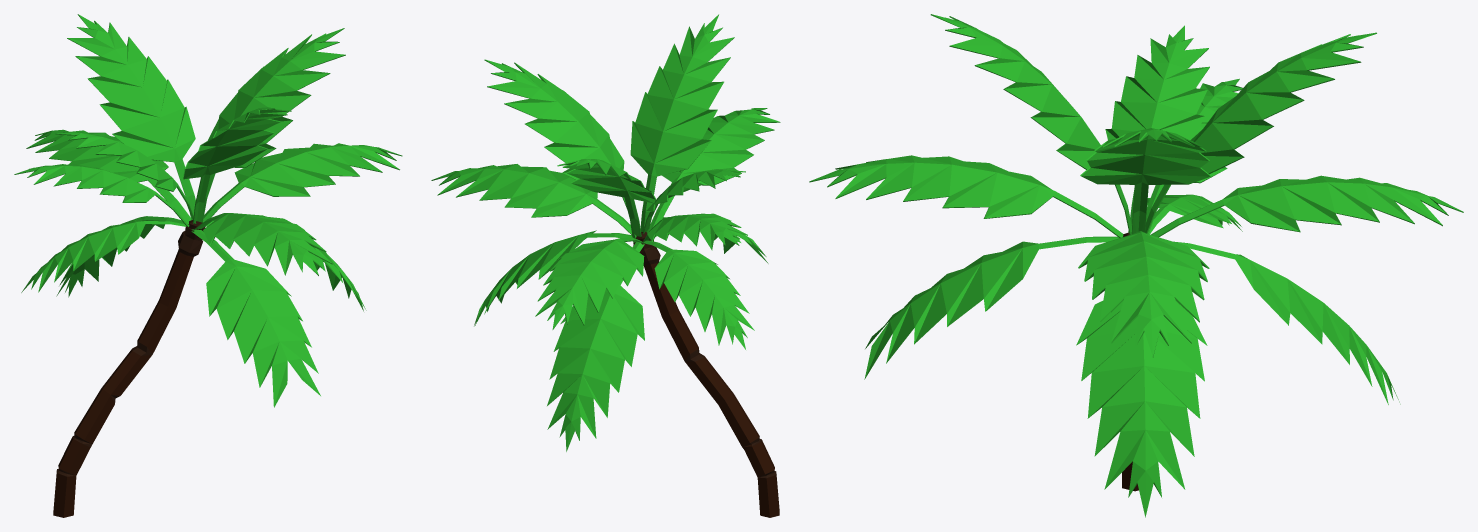
Rendered from Palm_Garden2.FBX.
3 views of the same model, side by side, from view 1: azimuth 30°, elevation 25°; view 2: azimuth 150°, elevation 25°; view 3: azimuth 270°, elevation 25° (orthographic). The views are drawn at different scales.
Visible parts, largest first — view 1: Line009, Line005, Line001, Cylinder001; view 2: Line009, Line005, Line001, Cylinder001; view 3: Line001, Line005, Line009.
Boxes of the visible parts, box(x1,y1,x2,y2) form: Line009: box(55, 14, 345, 224); Line005: box(14, 129, 402, 275); Line001: box(21, 216, 366, 407); Cylinder001: box(53, 220, 205, 517); Line009: box(484, 14, 745, 243); Line005: box(431, 108, 780, 329); Line001: box(474, 217, 768, 451); Cylinder001: box(633, 232, 779, 517); Line001: box(864, 194, 1400, 517); Line005: box(809, 78, 1463, 357); Line009: box(930, 14, 1376, 234).
Size of the model in its own units: 213 by 246 by 263.
Materials: 3 (1 with a texture image).
